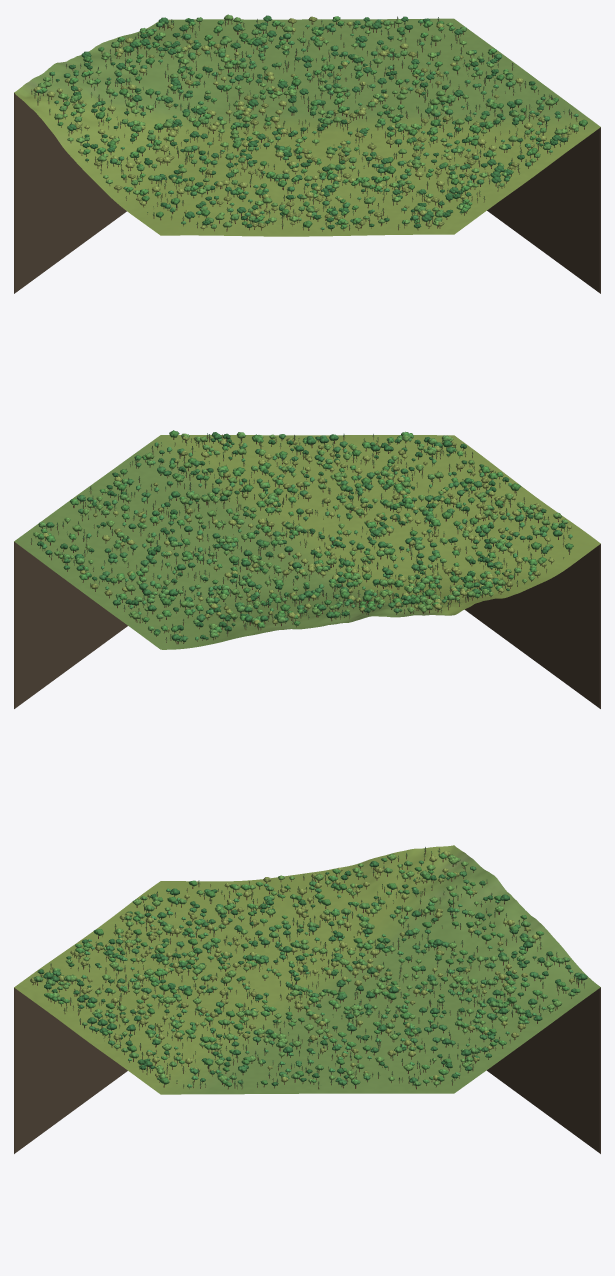
The picture shows the model from 3 angles, top to bottom: view 1: azimuth 30°, elevation 25°; view 2: azimuth 150°, elevation 25°; view 3: azimuth 270°, elevation 25°; orthographic projection.
Visible parts, largest first — view 1: terrain, broadleaf_canopy, hex_side_cut, trunks, conifer_canopy; view 2: terrain, broadleaf_canopy, hex_side_cut, trunks, conifer_canopy; view 3: terrain, broadleaf_canopy, hex_side_cut, trunks, conifer_canopy.
Part boxes in pixels (x1,y1,x2,y2): terrain: (14, 18, 600, 236); broadleaf_canopy: (33, 14, 587, 229); hex_side_cut: (14, 93, 600, 293); trunks: (31, 17, 584, 231); conifer_canopy: (31, 16, 577, 228); terrain: (14, 435, 600, 649); broadleaf_canopy: (33, 430, 573, 641); hex_side_cut: (14, 542, 600, 708); trunks: (31, 435, 570, 644); conifer_canopy: (30, 433, 570, 639); terrain: (14, 845, 600, 1094); broadleaf_canopy: (30, 851, 587, 1087); hex_side_cut: (14, 987, 600, 1153); trunks: (32, 847, 584, 1089); conifer_canopy: (41, 847, 584, 1086).
Bounding box in the file's own units: 4330 × 1936 × 5000.
Materials: 6 (1 with a texture image).
